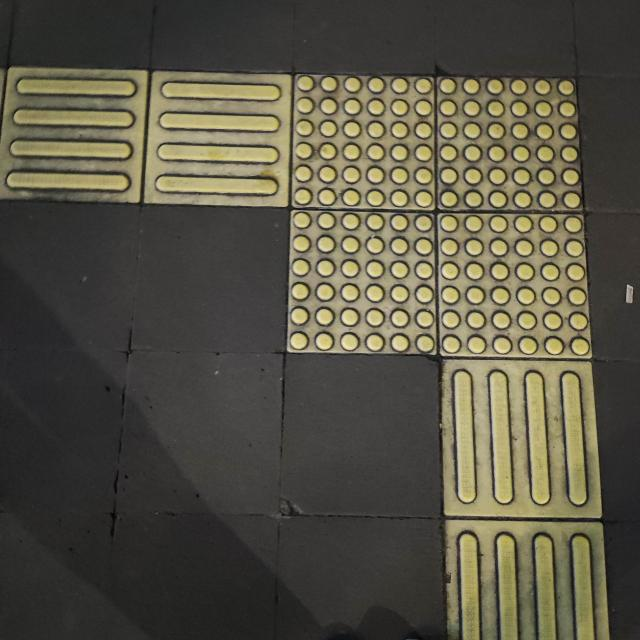kiri: (94, 49, 615, 442)
